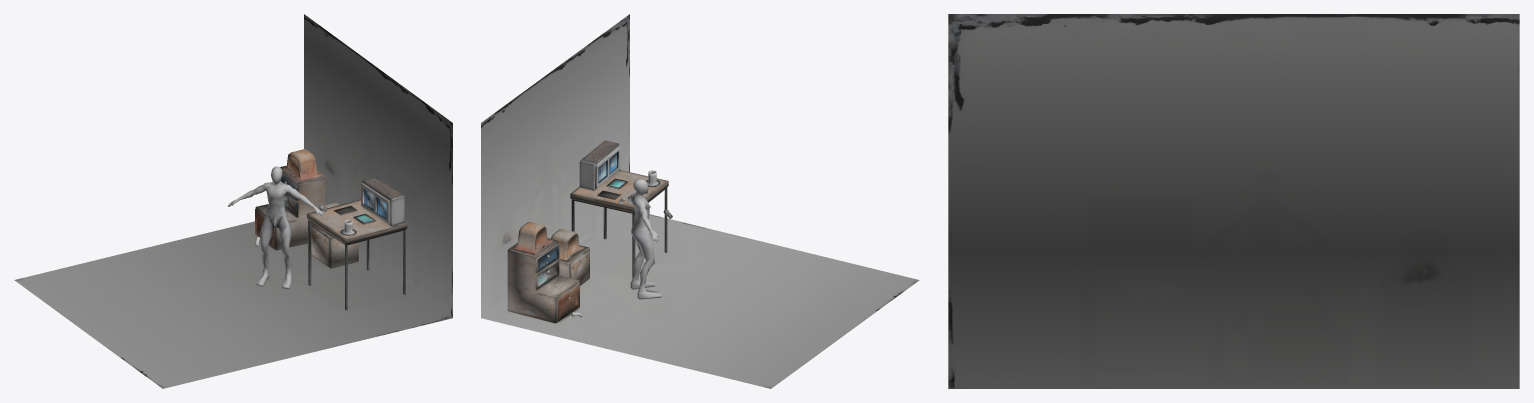
Rendered from glass.glb.
3 views of the same model, side by side, from view 1: azimuth 30°, elevation 25°; view 2: azimuth 150°, elevation 25°; view 3: azimuth 270°, elevation 25° (orthographic). The views are drawn at different scales.
Parts seen in each view (by area): view 1: tripo_node_2e2adbcc-ace9-4728-bd86-ab09b9d0c5e0; view 2: tripo_node_2e2adbcc-ace9-4728-bd86-ab09b9d0c5e0; view 3: tripo_node_2e2adbcc-ace9-4728-bd86-ab09b9d0c5e0.
Part boxes in pixels (bbox=[...]): tripo_node_2e2adbcc-ace9-4728-bd86-ab09b9d0c5e0: bbox=[14, 14, 452, 388]; tripo_node_2e2adbcc-ace9-4728-bd86-ab09b9d0c5e0: bbox=[481, 14, 919, 388]; tripo_node_2e2adbcc-ace9-4728-bd86-ab09b9d0c5e0: bbox=[948, 14, 1519, 388].
Bounding box in the file's own units: 0.9995 × 0.647 × 0.8882.
Materials: 1 (1 with a texture image).
